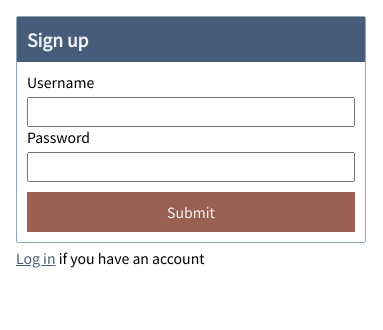
Test: SignupForm › input validation › displays an error message if the username has invalid characters
Type "Steve-?" into the field labelled "Username".
click(191, 112); type("Steve-?")  # box [27,97,355,127]
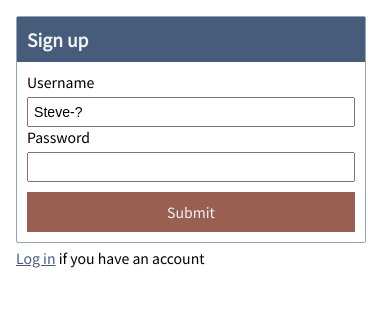
Type "1Abcdefgh2" into the password field labelled "Password".
click(191, 167); type("1Abcdefgh2")  # box [27,152,355,182]
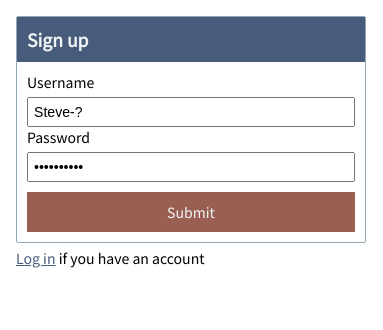
Click the button "Submit".
click(191, 212)  # box [27,192,355,232]
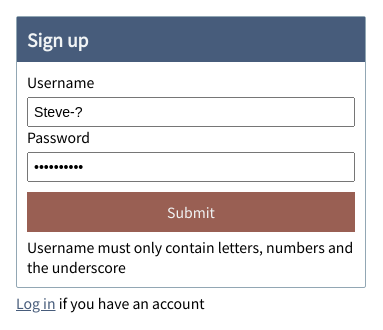
Check: the text "Username must only contain letters, numbers and the underscore" is shown, box [27,237,355,277]
